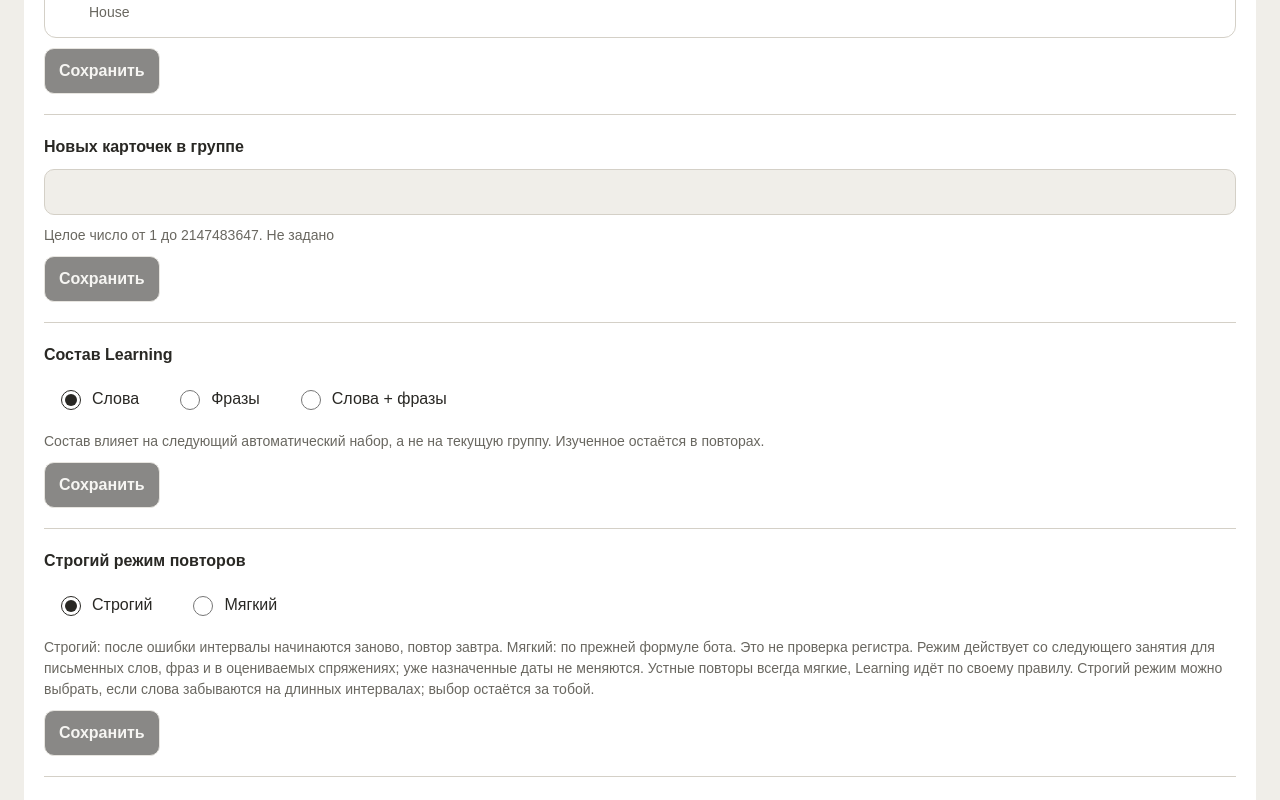
Settings host saves review mode and learning content (M-SET) › Состав Learning: Фразы goes through setting.save and shows success only after the committed reply
(page scrolled)
expect the field is enabled: met, box [44,169,1236,215]
Click the radio button labelled "Фразы" at (190, 400), box [180,390,200,410]
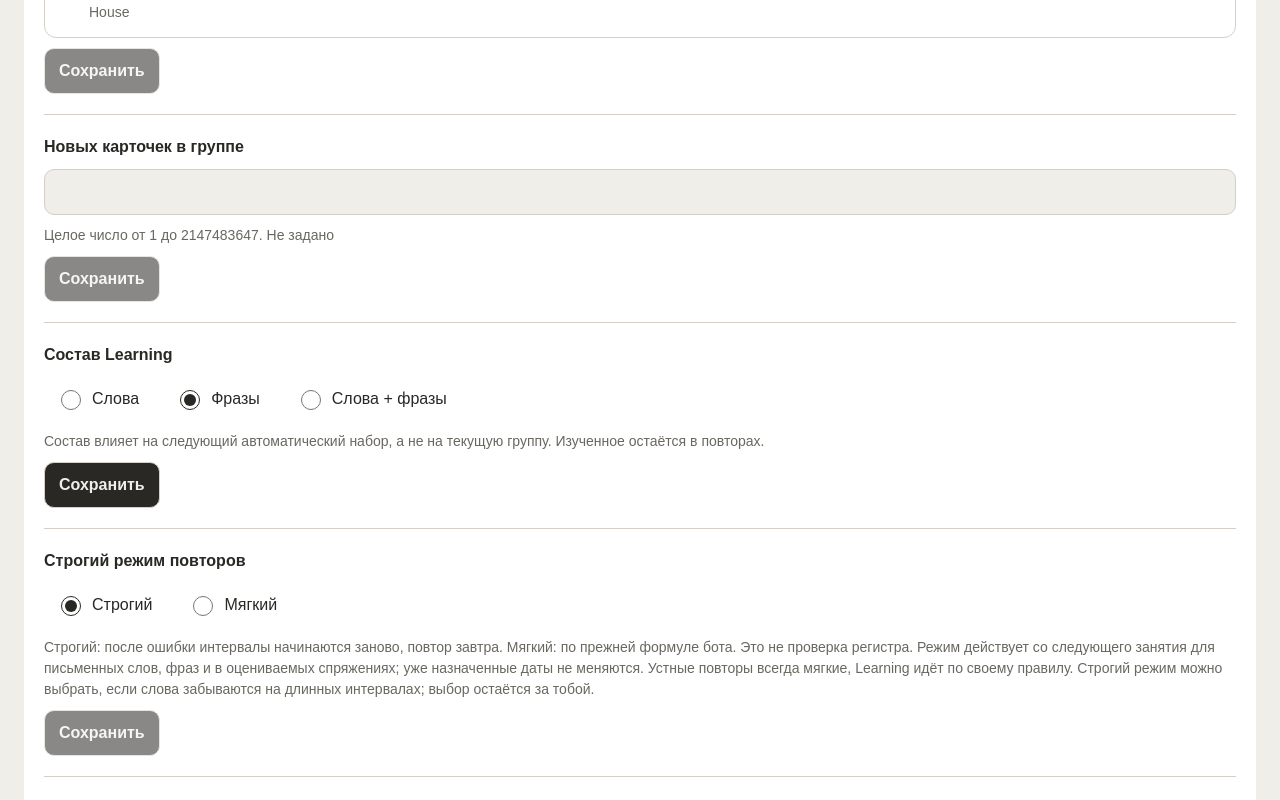
Click the button "Сохранить" below "Слова + фразы" at (102, 485), box [44,462,160,508]
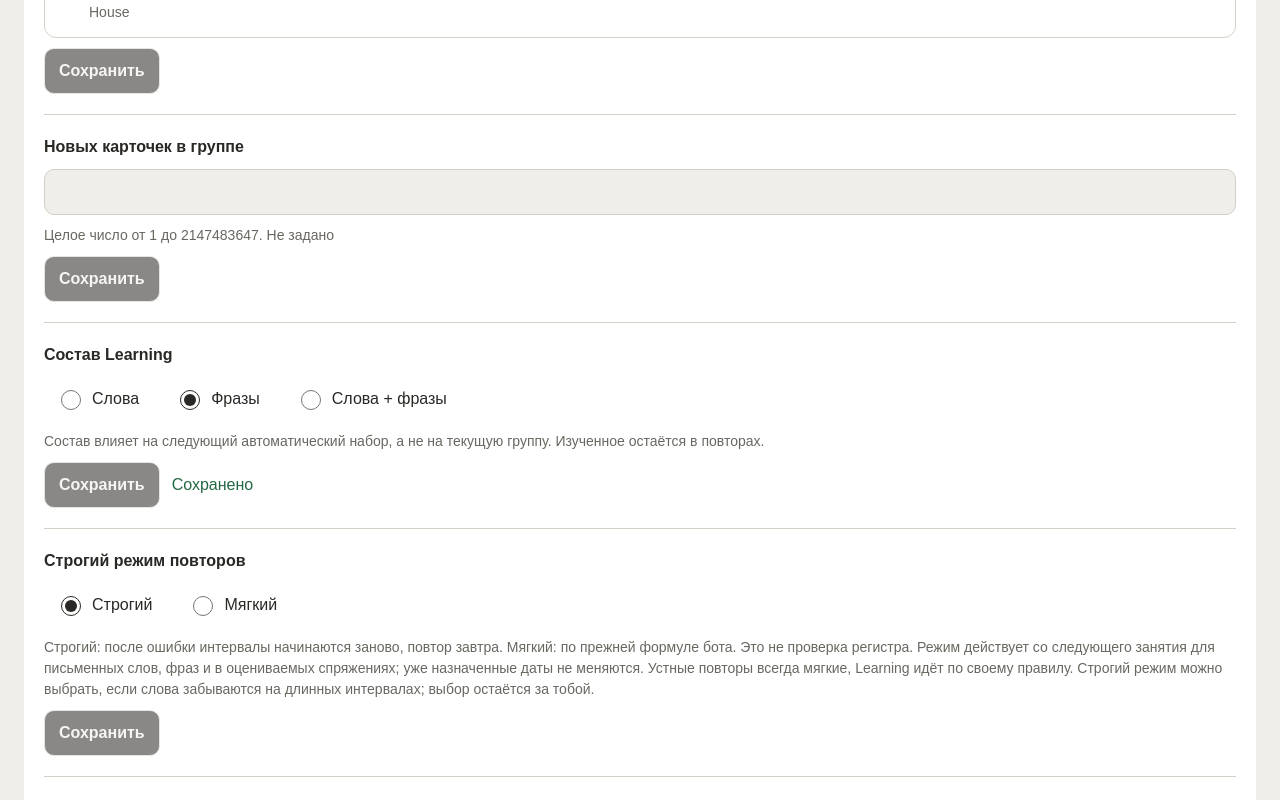
expect the radio button labelled "Фразы" is checked: met, box [180,390,200,410]
expect the text "Сохранено" is shown: met, box [172,473,253,497]
